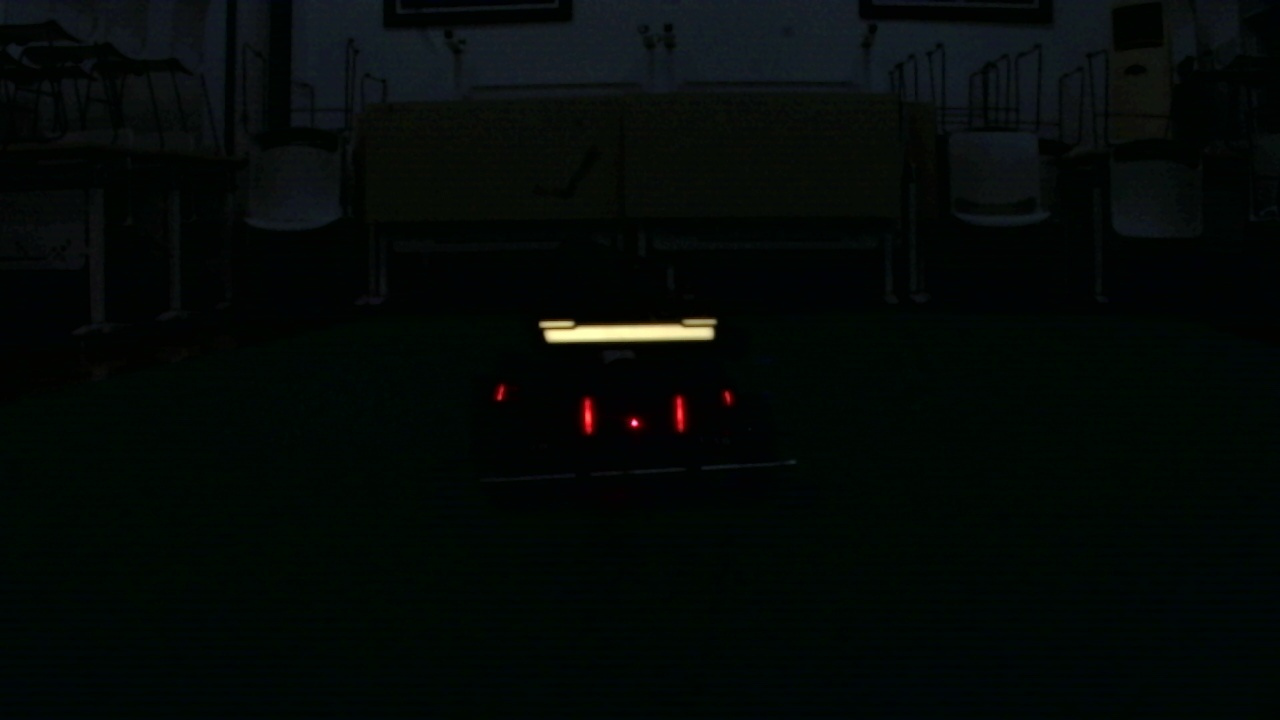lamp: (666, 386, 688, 434), (580, 393, 600, 438)
pair1: (583, 398, 687, 436)
